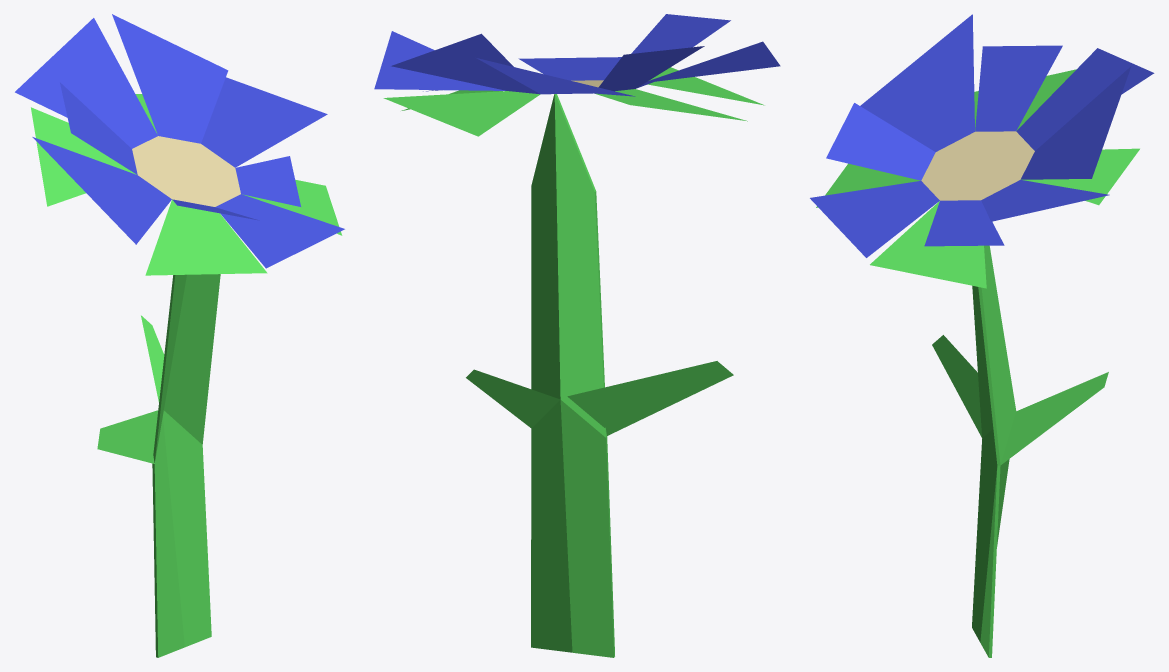
File: Flower2.fbx
The picture shows the model from 3 angles, left to right: view 1: azimuth 30°, elevation 25°; view 2: azimuth 150°, elevation 25°; view 3: azimuth 270°, elevation 25°; orthographic projection. The views are drawn at different scales.
Visible parts, largest first — view 1: Circle.003, Plane.041; view 2: Plane.041, Circle.003; view 3: Circle.003, Plane.041.
Part boxes in pixels (bbox=[...]): Circle.003: bbox=[15, 14, 344, 275]; Plane.041: bbox=[97, 274, 220, 657]; Plane.041: bbox=[466, 94, 733, 657]; Circle.003: bbox=[374, 14, 780, 136]; Circle.003: bbox=[810, 14, 1154, 288]; Plane.041: bbox=[932, 245, 1108, 657].
Bounding box in the file's own units: 74.68 × 135 × 73.09.
